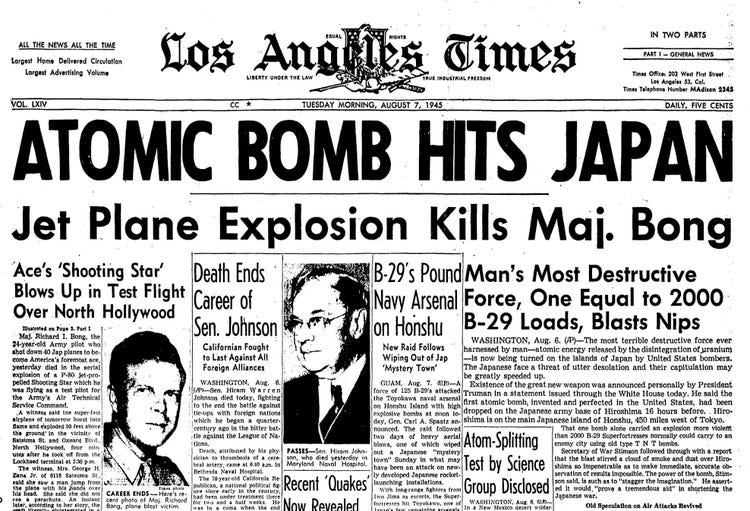news_paper: (1, 1, 750, 511)
